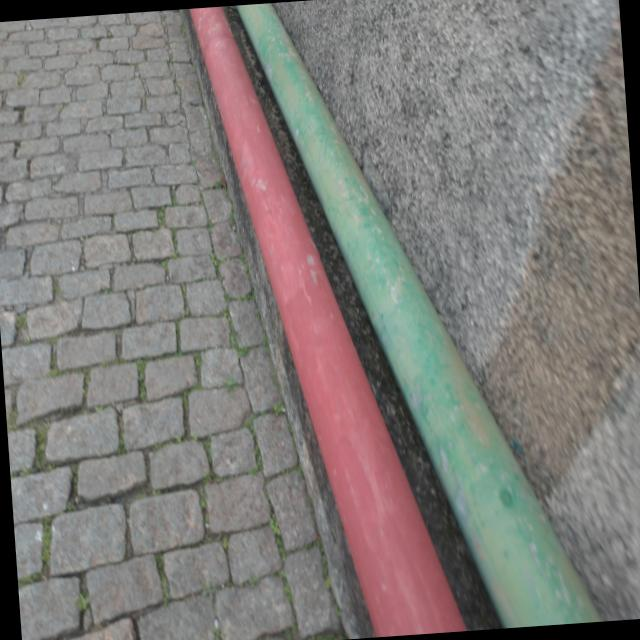gas: (236, 3, 598, 624), (190, 6, 469, 637)
